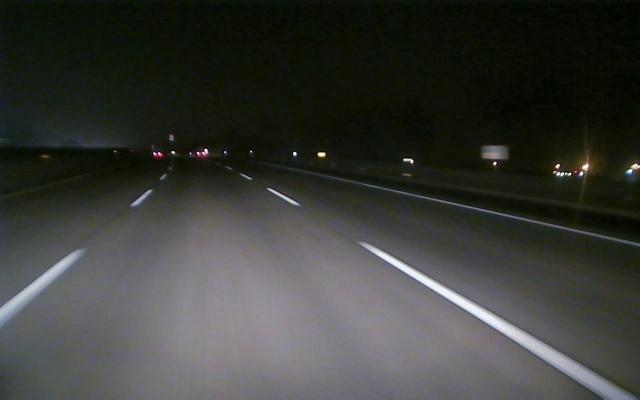lane: (239, 174, 633, 397), (1, 190, 151, 326), (362, 182, 640, 247)
